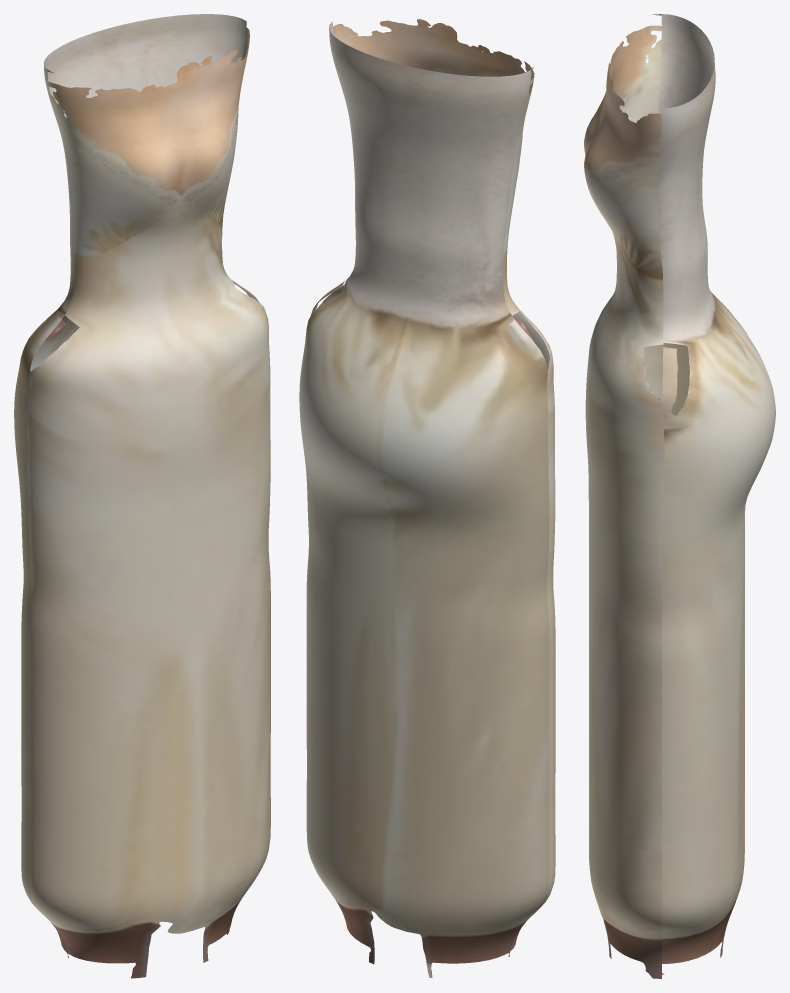
Rendered from prod-ae-butter-lace-slip-midi.glb.
3 renders of one model, left to right at view 1: azimuth 30°, elevation 25°; view 2: azimuth 150°, elevation 25°; view 3: azimuth 270°, elevation 25°, orthographic. The views are drawn at different scales.
Parts seen in each view (by area): view 1: prod-ae-butter-lace-slip-midi; view 2: prod-ae-butter-lace-slip-midi; view 3: prod-ae-butter-lace-slip-midi.
Boxes of the visible parts, bbox=[...] form: prod-ae-butter-lace-slip-midi: bbox=[14, 14, 270, 978]; prod-ae-butter-lace-slip-midi: bbox=[299, 19, 555, 977]; prod-ae-butter-lace-slip-midi: bbox=[584, 14, 775, 978].
Size of the model in its own units: 0.2918 by 1.07 by 0.2106.
Materials: 1 (1 with a texture image).
